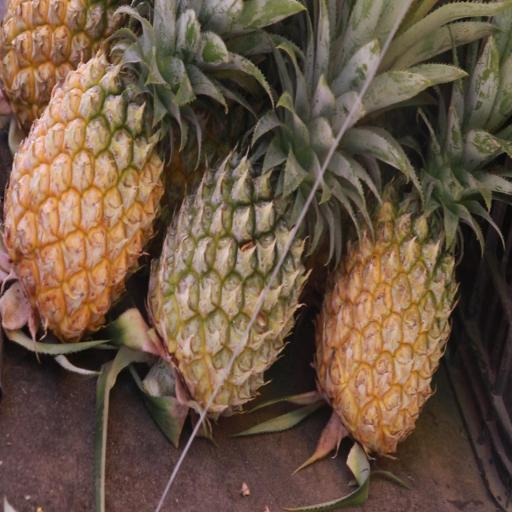Pineapple - v8 v1: (1, 0, 170, 355), (310, 92, 464, 467)
